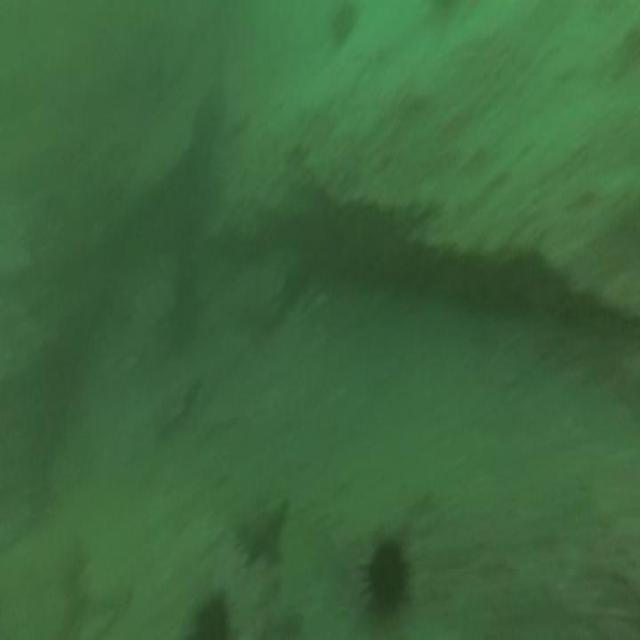echinus: (359, 530, 411, 620), (186, 586, 232, 640), (330, 0, 356, 52)
starfish: (233, 494, 291, 574)
